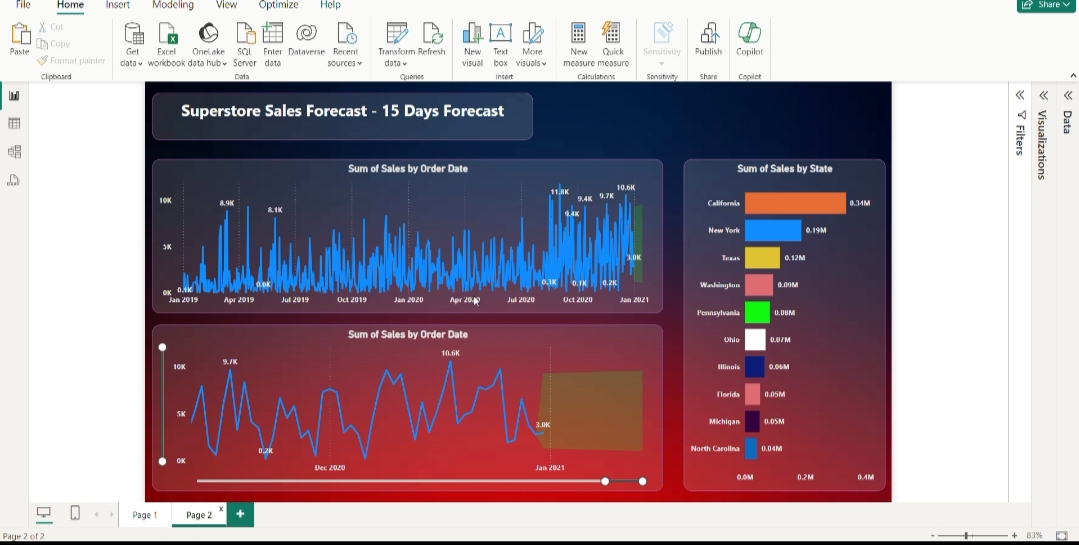

This screenshot's page, from the dashboard's own definition file:
{"tool":"powerbi","page":{"name":"Page 2","canvas":[1280,720],"ordinal":1},"visuals":[{"type":"lineChart","fields":{"Y":["Sum(SuperStore_Sales_Dataset.Sales)"],"Category":["SuperStore_Sales_Dataset.Order Date"]},"box":[12.1,132.7,877.1,264.2],"z":0},{"type":"lineChart","fields":{"Y":["Sum(SuperStore_Sales_Dataset.Sales)"],"Category":["SuperStore_Sales_Dataset.Order Date"]},"box":[12.1,416.2,877.1,284.7],"z":1000},{"type":"clusteredBarChart","fields":{"Category":["SuperStore_Sales_Dataset.State"],"Y":["Sum(SuperStore_Sales_Dataset.Sales)"]},"box":[924.1,132.7,346.2,568.2],"z":2000},{"type":"textbox","box":[12.1,19.3,653.9,80.8],"z":3000}]}

Visuals, with their boxes on the page's 1280x720 design canvas (x1, y1, x2, y2). These are canvas units, not pixel positions in the 1079x545 screenshot, which may show the page scaled, cropped or inside an application window:
lineChart - Sum(SuperStore_Sales_Dataset.Sales) x SuperStore_Sales_Dataset.Order Date: 12/133/889/397
lineChart - Sum(SuperStore_Sales_Dataset.Sales) x SuperStore_Sales_Dataset.Order Date: 12/416/889/701
clusteredBarChart - SuperStore_Sales_Dataset.State x Sum(SuperStore_Sales_Dataset.Sales): 924/133/1270/701
textbox: 12/19/666/100
